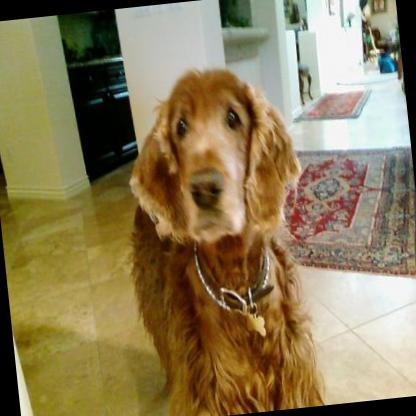Irish_setter: (109, 53, 329, 416)
